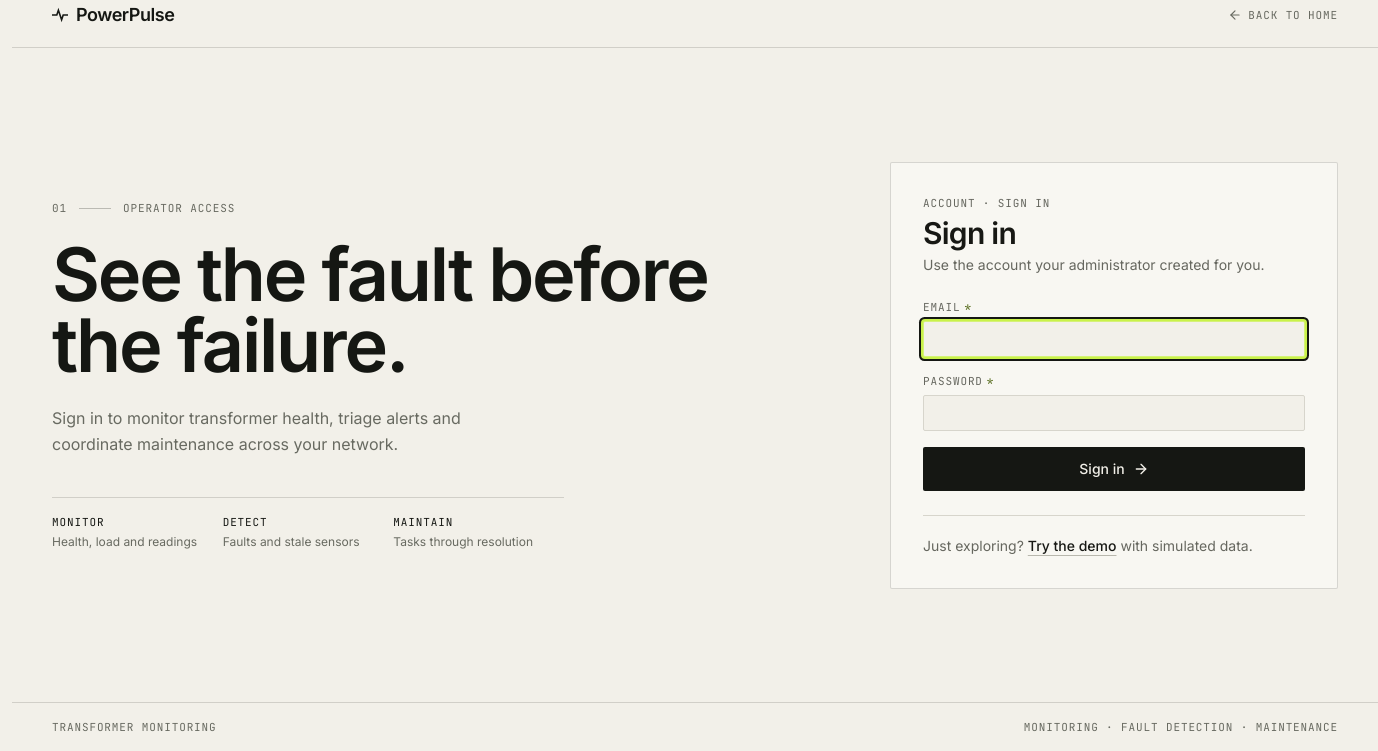
Test: LoginPage › shows the server error for bad credentials
Type "ops@test.local" into the field labelled "Email*". click: (1114, 338)
box: 923,320 -> 1305,356
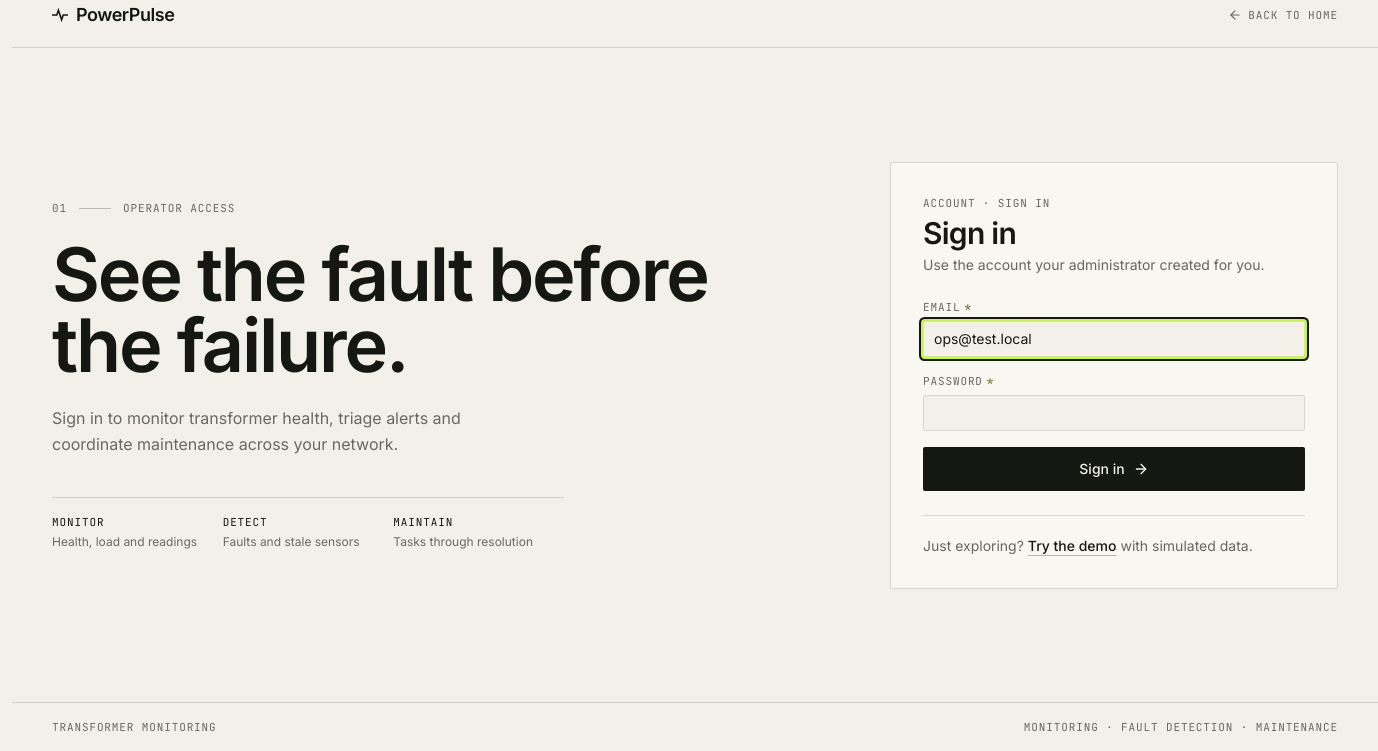
Type "wrong-password" into the password field labelled "Password*". click: (1114, 412)
box: 923,394 -> 1305,430
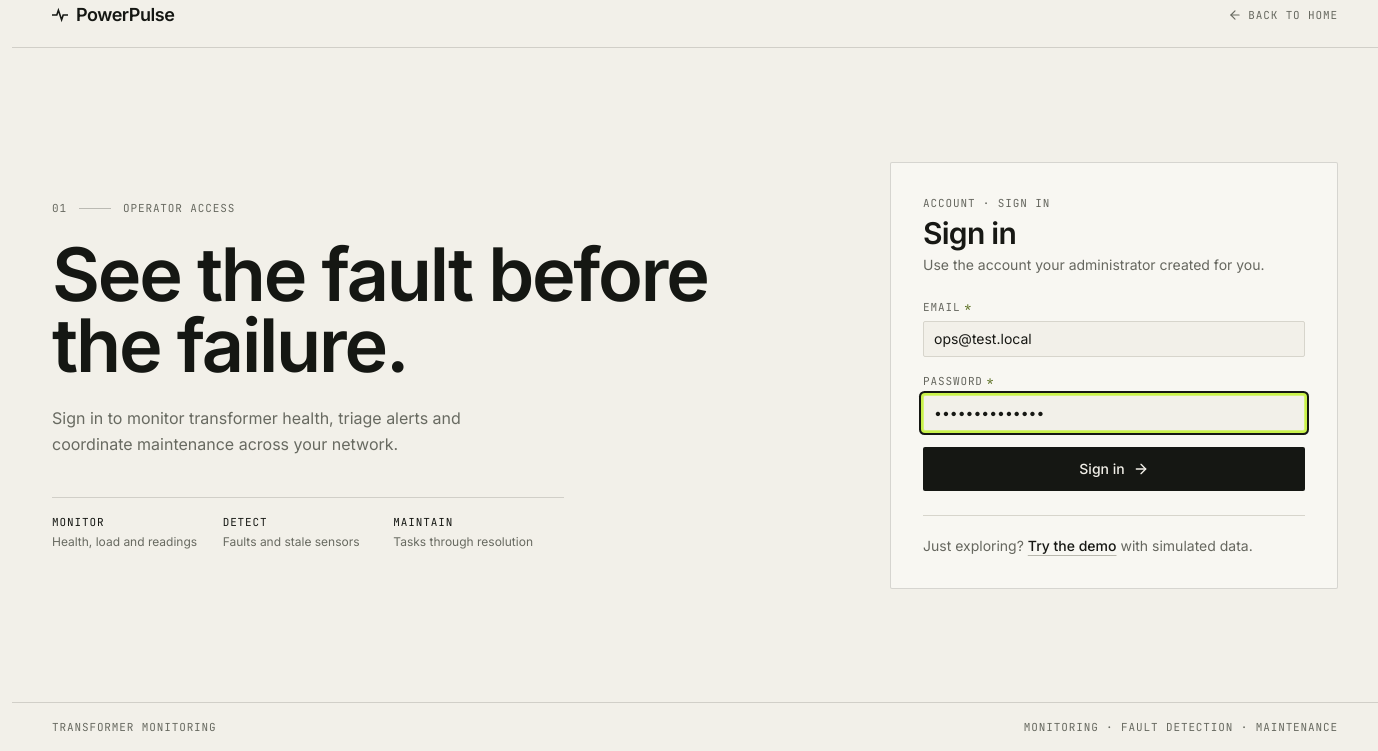
Click the button "Sign in". click: (1114, 468)
box: 923,446 -> 1305,490
(page scrolled)
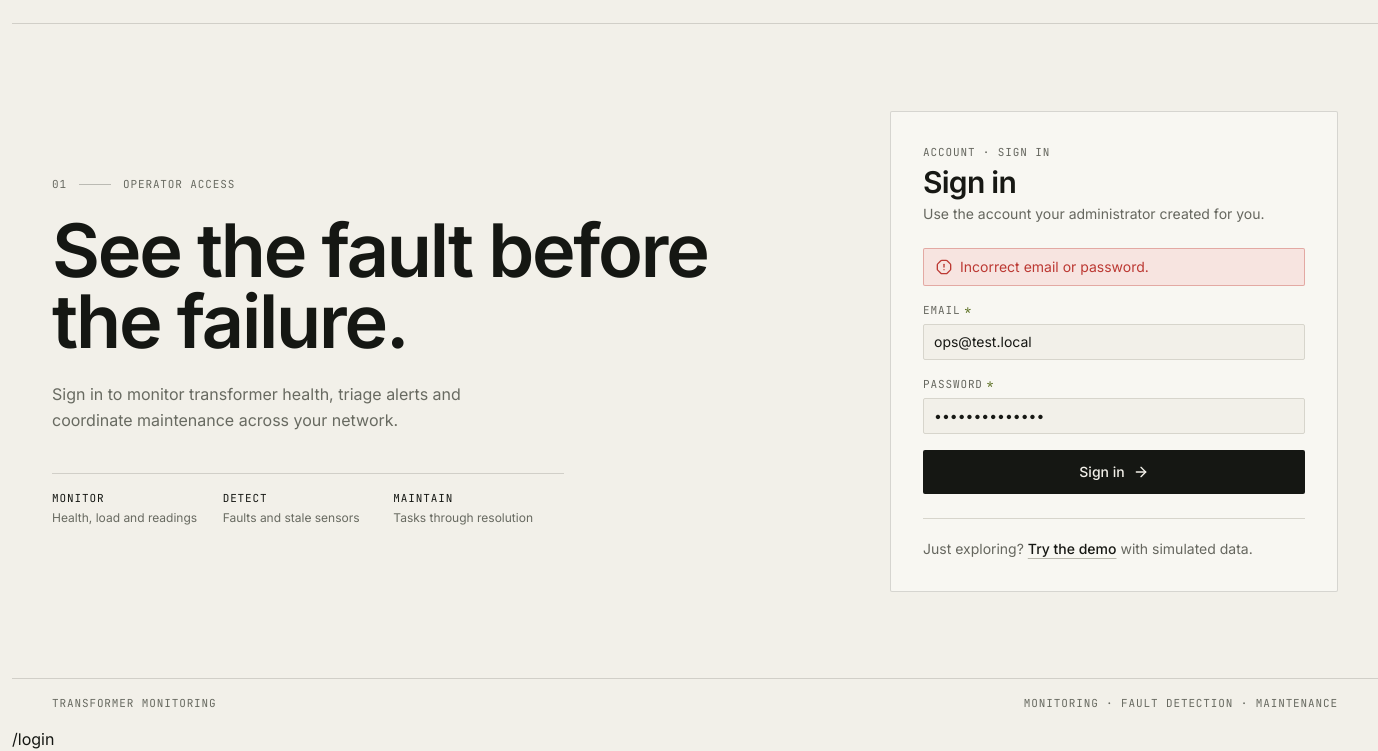
Expected: the text with test id "location" reads "/login", 12,729 -> 54,749
Expected: the message reads "Incorrect email or password.", 960,258 -> 1149,274
